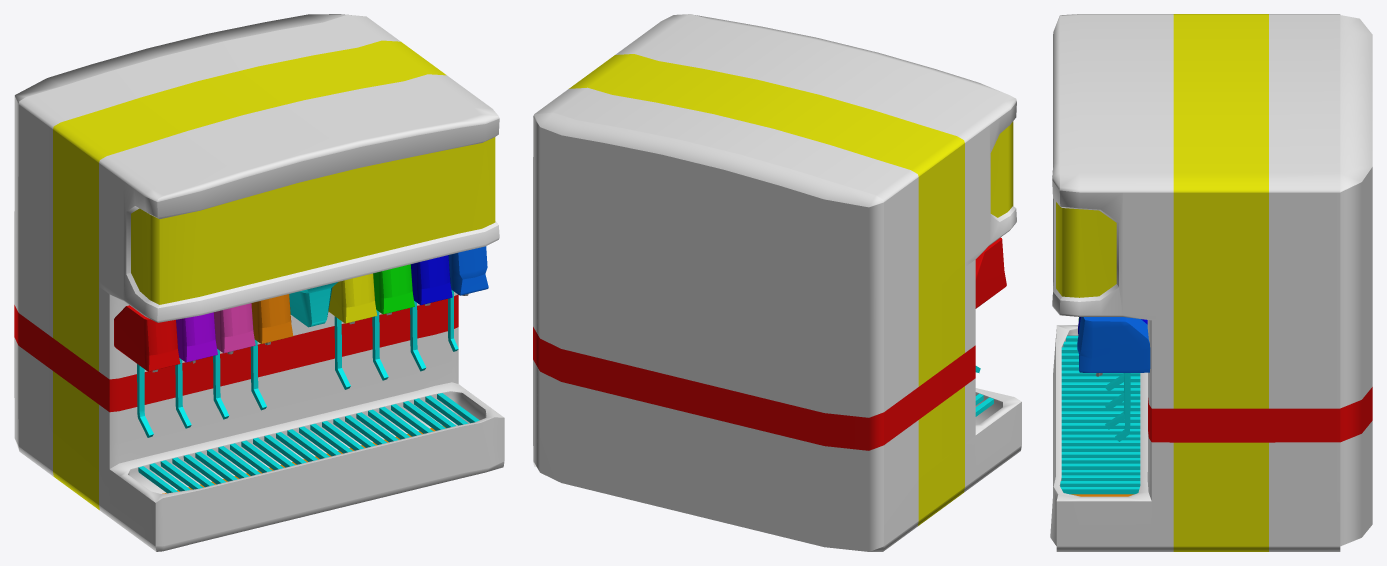
File: fountain_drink_machine.fbx
3 renders of one model, left to right at view 1: azimuth 30°, elevation 25°; view 2: azimuth 150°, elevation 25°; view 3: azimuth 270°, elevation 25°, orthographic. The views are drawn at different scales.
Parts seen in each view (by area): view 1: polySurface23, polySurface72, polySurface59, polySurface69, polySurface75, polySurface66, polySurface62, polySurface56, polySurface53, polySurface65; view 2: polySurface23, polySurface72; view 3: polySurface23, polySurface53, polySurface51, polySurface48, polySurface47, polySurface45, polySurface27, polySurface25, polySurface26, polySurface46, polySurface50, polySurface52 (+9 smaller).
Part boxes in pixels (bbox=[...]): polySurface23: bbox=[14, 14, 504, 551]; polySurface72: bbox=[114, 305, 180, 371]; polySurface59: bbox=[328, 273, 377, 323]; polySurface69: bbox=[176, 312, 217, 362]; polySurface75: bbox=[251, 294, 293, 343]; polySurface66: bbox=[214, 303, 255, 353]; polySurface62: bbox=[373, 264, 414, 314]; polySurface56: bbox=[411, 255, 452, 305]; polySurface53: bbox=[448, 246, 488, 295]; polySurface65: bbox=[289, 282, 337, 327]; polySurface23: bbox=[533, 14, 1021, 551]; polySurface72: bbox=[975, 237, 1006, 308]; polySurface23: bbox=[1050, 14, 1372, 551]; polySurface53: bbox=[1077, 317, 1150, 372]; polySurface51: bbox=[1060, 487, 1139, 494]; polySurface48: bbox=[1061, 463, 1140, 469]; polySurface47: bbox=[1061, 440, 1140, 446]; polySurface45: bbox=[1061, 428, 1140, 434]; polySurface27: bbox=[1061, 434, 1140, 440]; polySurface25: bbox=[1060, 481, 1140, 486]; polySurface26: bbox=[1061, 446, 1140, 451]; polySurface46: bbox=[1061, 452, 1140, 457]; polySurface50: bbox=[1061, 458, 1140, 463]; polySurface52: bbox=[1061, 475, 1140, 480].
Size of the model in its own units: 92.96 by 92.01 by 71.88.
